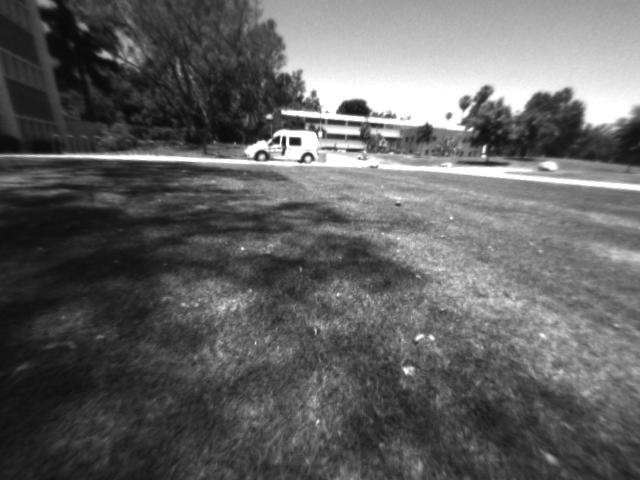dogtoy: (387, 193, 408, 212)
